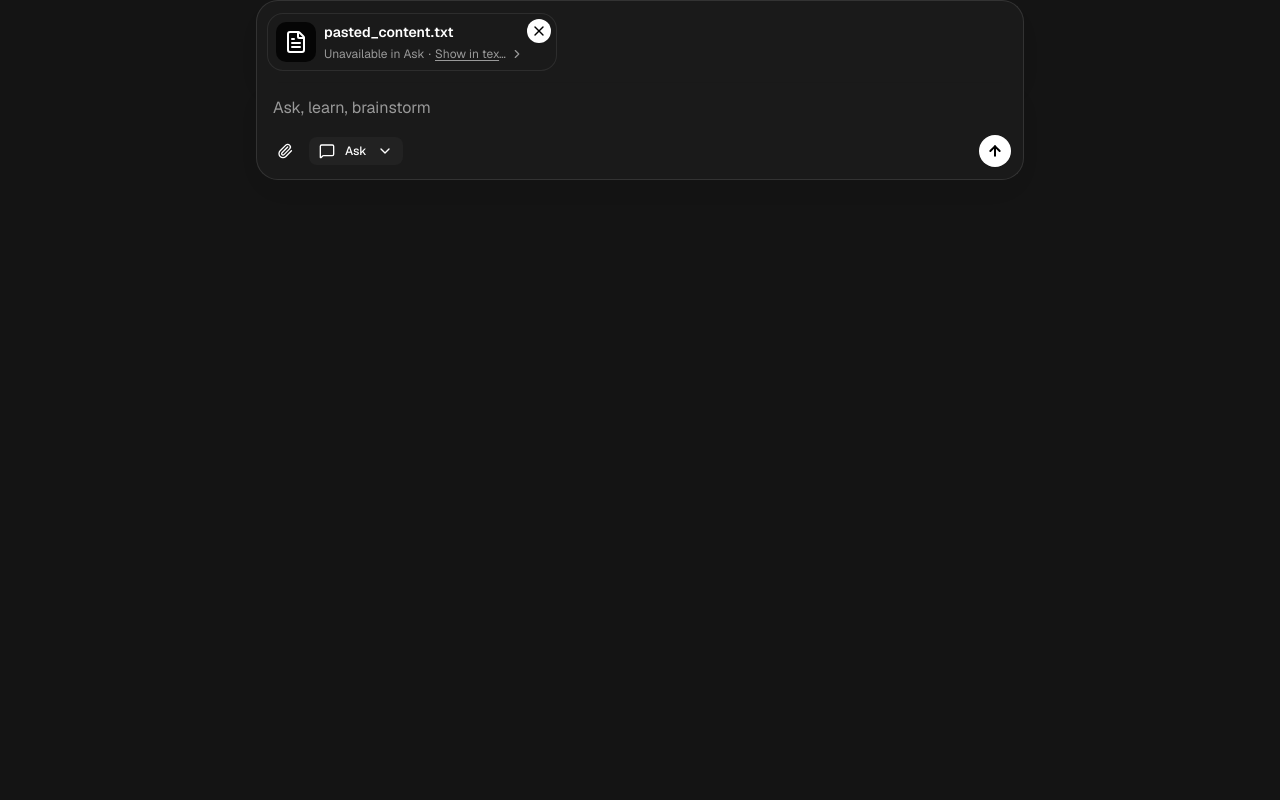
ChatInput - Integration Tests › Submit Behavior Integration › restores local generated pasted-text drafts from the Desktop file
The image size is (1280, 800).
Expected: the text "pasted_content.txt" is shown, [324,23,454,41]
Click the button with aria-label "Open pasted_content.txt".
click(412, 42)  # box [276,22,548,62]
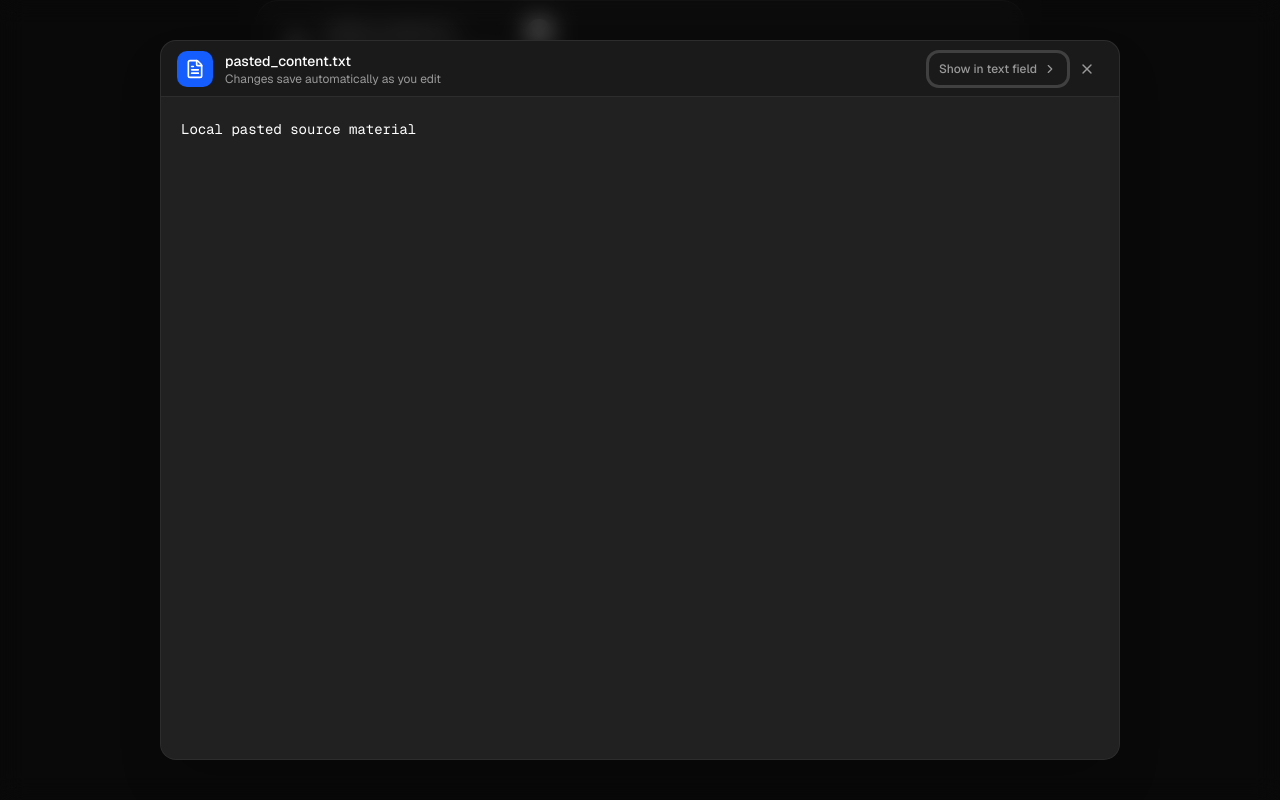
Now the text box named "Pasted text content" holds "Local pasted source material"
